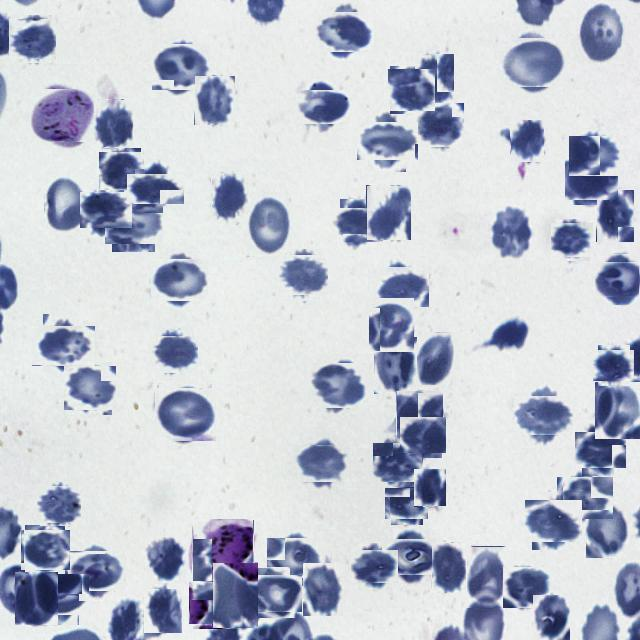gametocyte: (192, 520, 254, 582)
red blood cell: (504, 33, 563, 91), (157, 386, 214, 444), (212, 562, 258, 628), (577, 2, 625, 64), (247, 194, 291, 257), (314, 359, 366, 412), (154, 42, 207, 94), (37, 320, 90, 372), (33, 568, 84, 620), (108, 197, 159, 248), (44, 176, 88, 235), (595, 382, 640, 439), (519, 390, 569, 440), (154, 255, 204, 305), (362, 116, 412, 166), (528, 496, 578, 546), (320, 6, 370, 56), (366, 300, 416, 350), (466, 546, 506, 608), (366, 185, 411, 240), (374, 337, 417, 394), (560, 473, 610, 522), (566, 154, 616, 202), (586, 504, 630, 558), (490, 206, 534, 260), (72, 548, 120, 596), (388, 533, 436, 581), (66, 364, 114, 412), (270, 534, 318, 582), (396, 390, 444, 438), (15, 572, 58, 625), (297, 439, 345, 486), (417, 102, 463, 149), (191, 580, 238, 626), (303, 564, 343, 618), (279, 252, 325, 298), (571, 133, 617, 179), (381, 264, 426, 310), (194, 75, 235, 125), (22, 528, 68, 572), (388, 68, 434, 112), (416, 332, 454, 385), (596, 189, 634, 242), (414, 54, 454, 104), (504, 566, 549, 610), (376, 440, 420, 485), (144, 536, 186, 583), (578, 428, 622, 472), (301, 85, 345, 129), (10, 17, 54, 61), (256, 571, 300, 615), (84, 188, 128, 232), (211, 172, 248, 224), (93, 99, 133, 147), (134, 167, 178, 210), (152, 334, 196, 376), (599, 257, 640, 301), (431, 542, 466, 593), (336, 204, 378, 246), (100, 150, 142, 192), (402, 414, 444, 456), (532, 594, 570, 640), (354, 546, 396, 586), (144, 589, 182, 633), (39, 484, 80, 524), (554, 220, 592, 260), (510, 119, 544, 162), (388, 484, 426, 522), (596, 348, 632, 383), (414, 470, 446, 508)
trophozoite: (34, 86, 93, 146)
